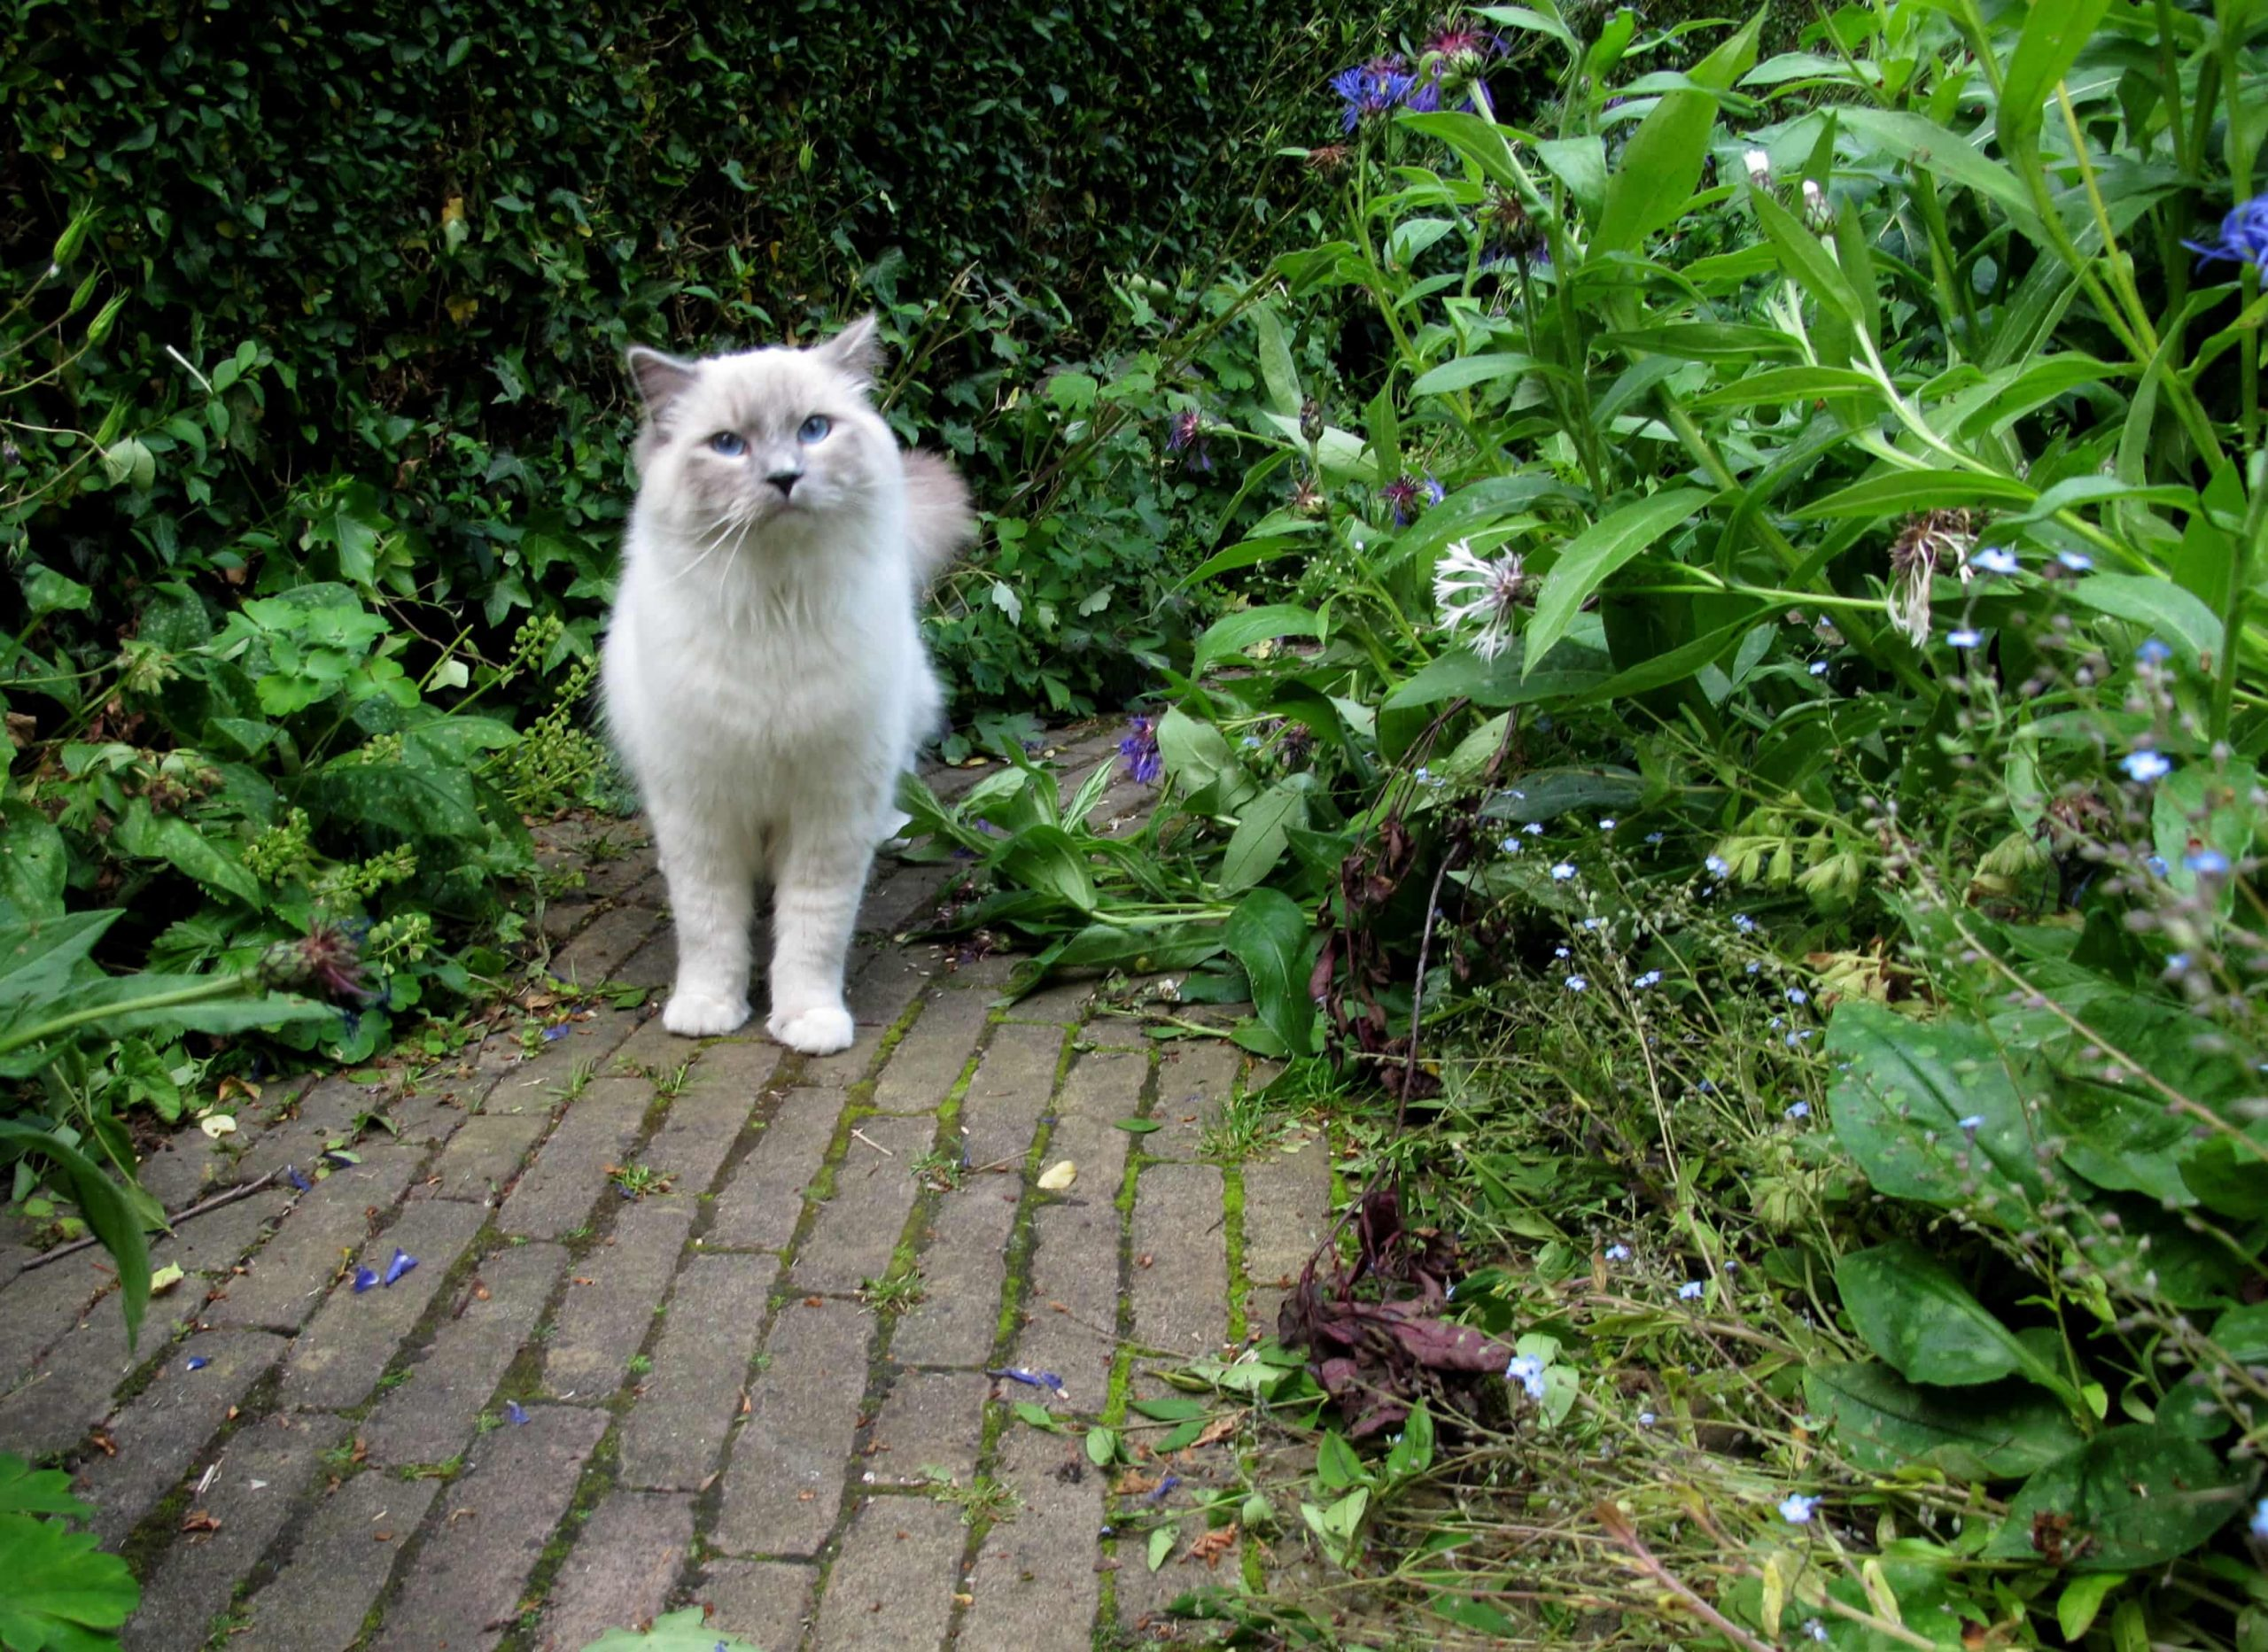cat: (593, 328, 976, 1051)
